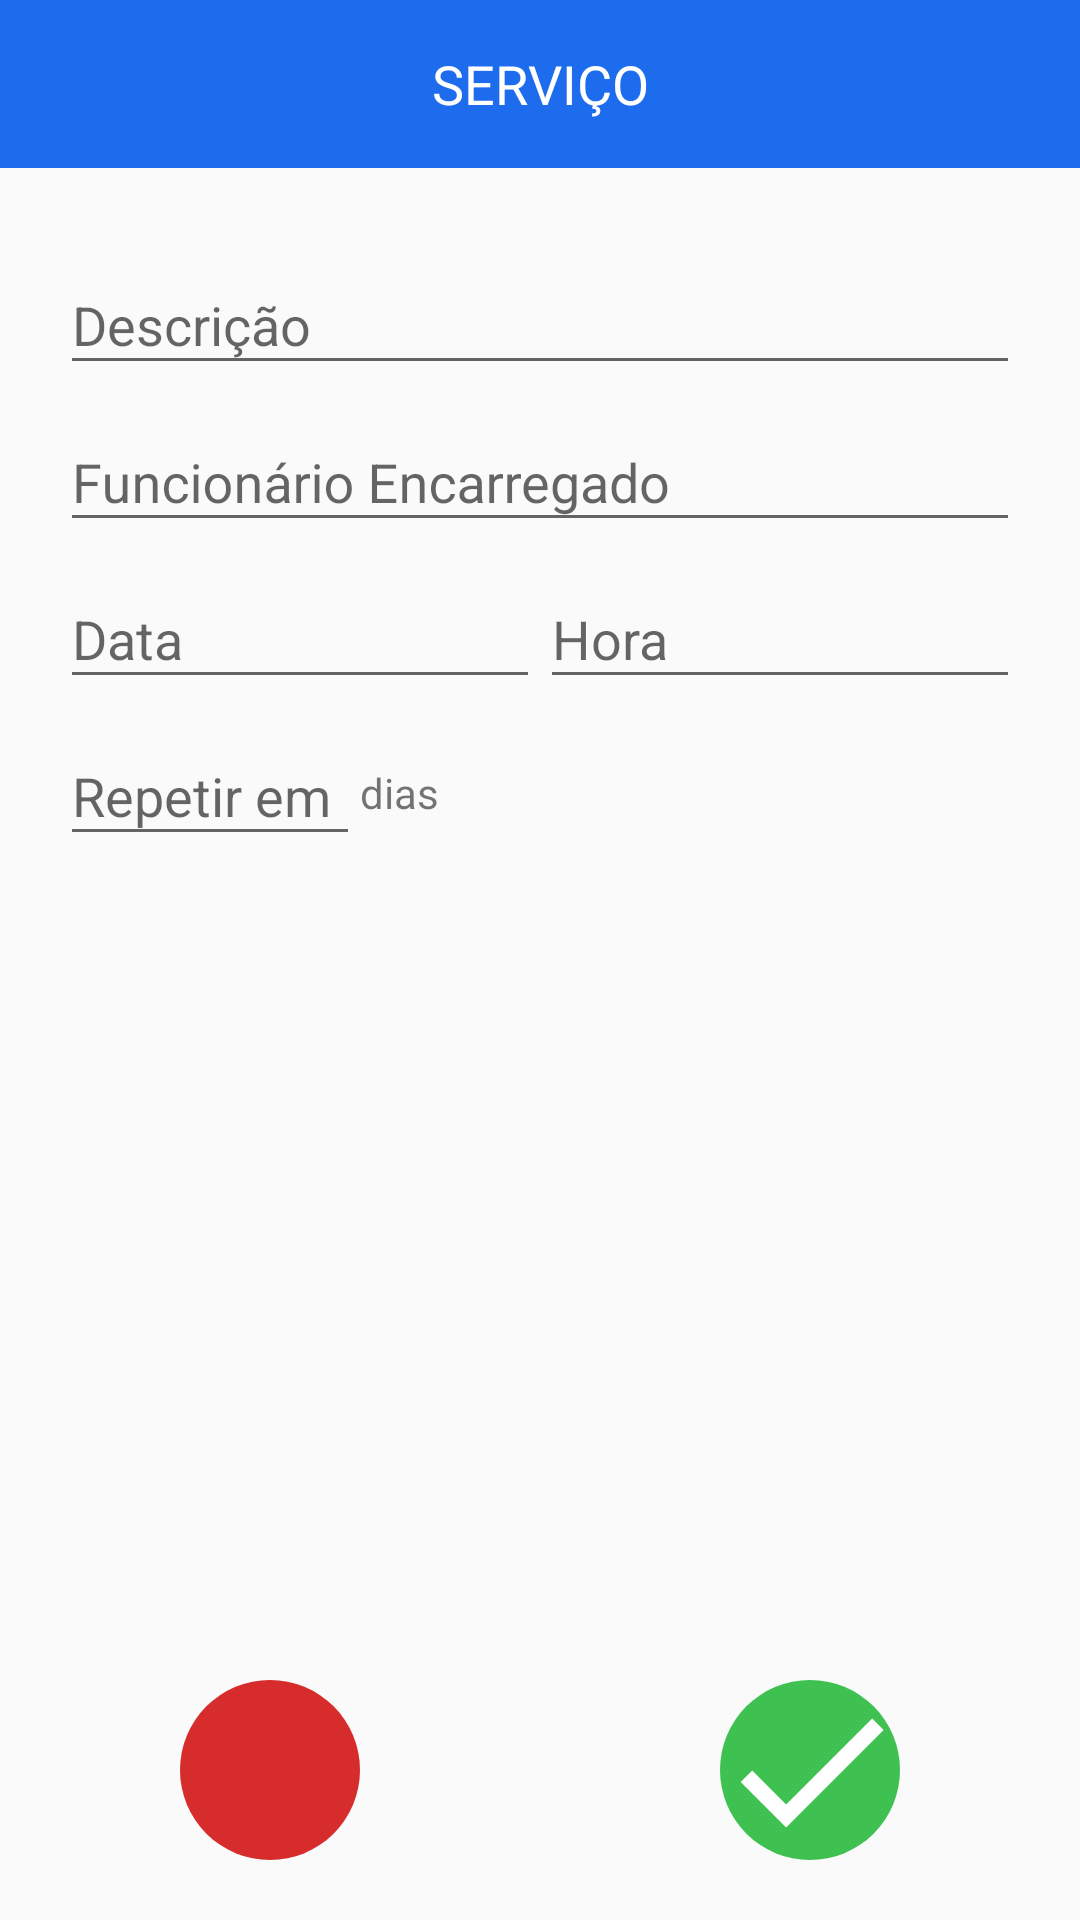

Screen size 1080x1920. Icon name, then its center in pixels as (x=x, y=y):
check: (x=810, y=1770)
